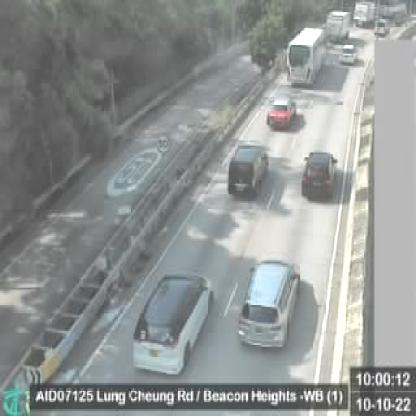Car: (136, 272, 214, 379), (238, 259, 300, 351), (228, 140, 270, 198), (303, 150, 337, 200), (268, 94, 297, 127), (340, 42, 356, 64), (374, 19, 388, 36)
Truck: (286, 24, 328, 85), (324, 9, 348, 43)
